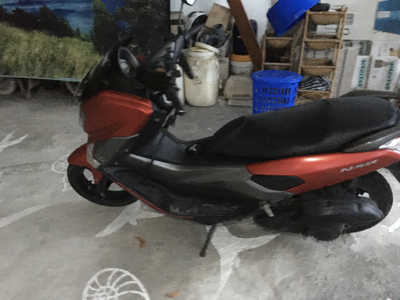moto: (64, 34, 398, 236)
